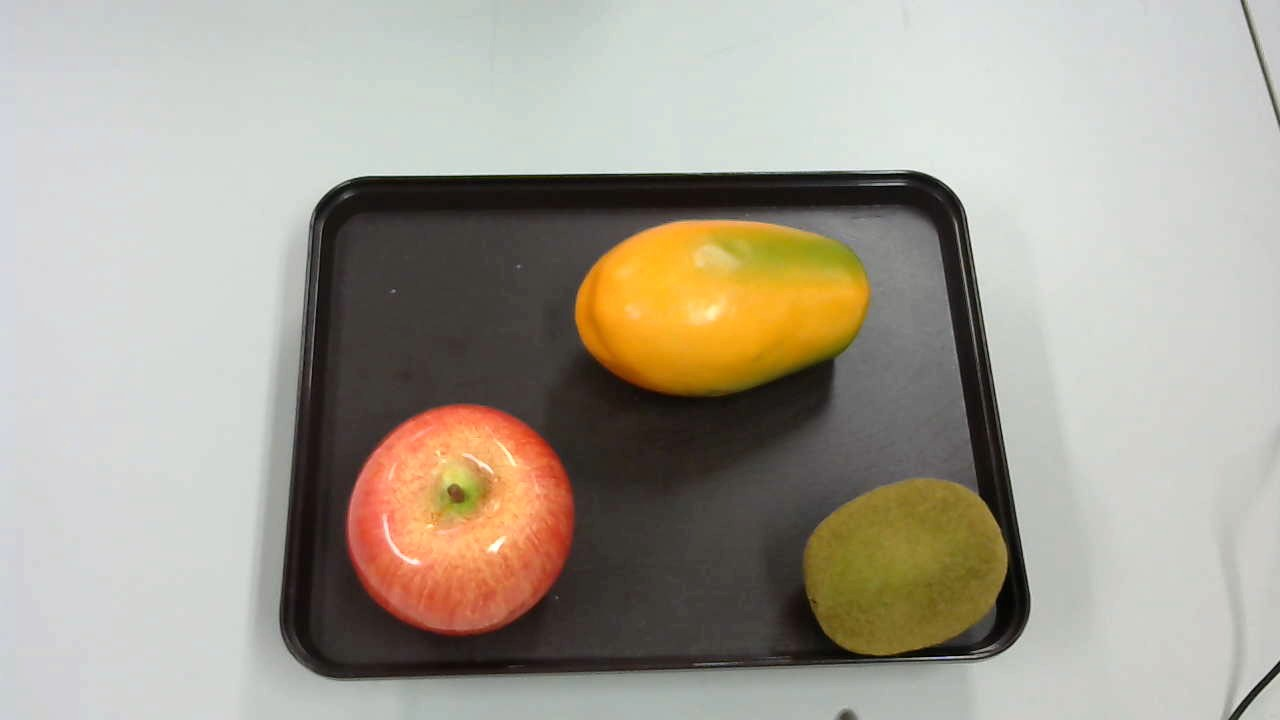kiwi fruit: (791, 471, 1009, 659)
papya: (572, 219, 874, 405)
red apple: (344, 403, 581, 638)
